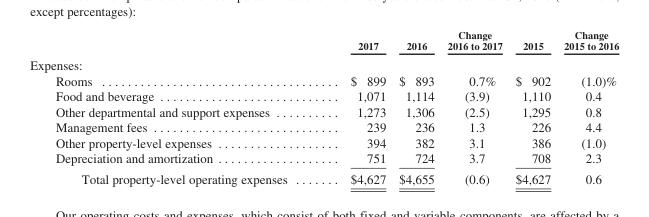table: (29, 28, 618, 185)
table column: (29, 28, 318, 185), (318, 28, 391, 185), (440, 28, 508, 185), (556, 28, 618, 185), (391, 28, 440, 185), (508, 28, 556, 185)
table column header: (29, 28, 618, 54)
table projected row header: (29, 54, 618, 72)
table row: (29, 28, 618, 54), (29, 54, 618, 72), (29, 150, 618, 168), (29, 168, 618, 185), (29, 72, 618, 88), (29, 103, 618, 119), (29, 134, 618, 150), (29, 88, 618, 103), (29, 119, 618, 134)
